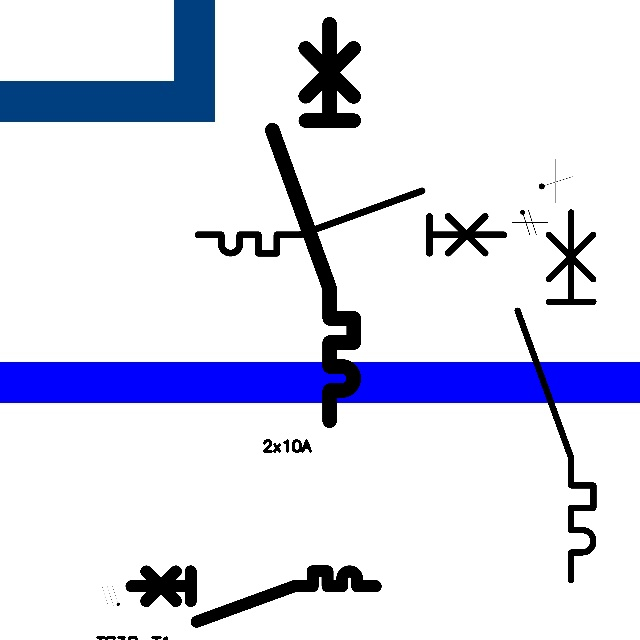interruptor_termomagnetico: (262, 14, 364, 431), (508, 202, 603, 589), (190, 183, 511, 261), (125, 565, 382, 628)
